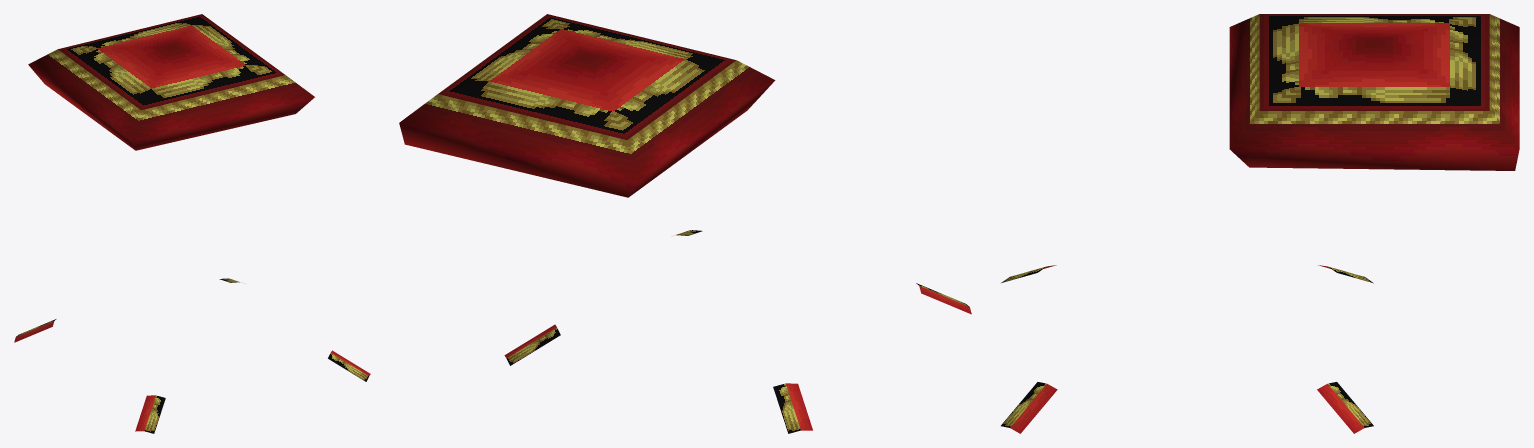
3 views of the same model, side by side, from view 1: azimuth 30°, elevation 25°; view 2: azimuth 150°, elevation 25°; view 3: azimuth 270°, elevation 25° (orthographic). The views are drawn at different scales.
Parts seen in each view (by area): view 1: 5481ucc_ac_nek; view 2: 5481ucc_ac_nek; view 3: 5481ucc_ac_nek.
Boxes of the visible parts, <box> form: 5481ucc_ac_nek: <box>14,14,370,433</box>; 5481ucc_ac_nek: <box>399,14,971,433</box>; 5481ucc_ac_nek: <box>1001,14,1519,433</box>.
Bounding box in the file's own units: 1.08 × 1.01 × 1.38.
Materials: 4 (4 with a texture image).
